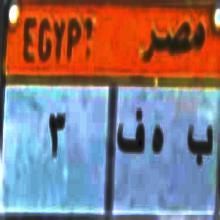3: (46, 105, 66, 164)
baa: (187, 118, 213, 175)
faa: (116, 106, 147, 166)
haa: (149, 119, 165, 168)
